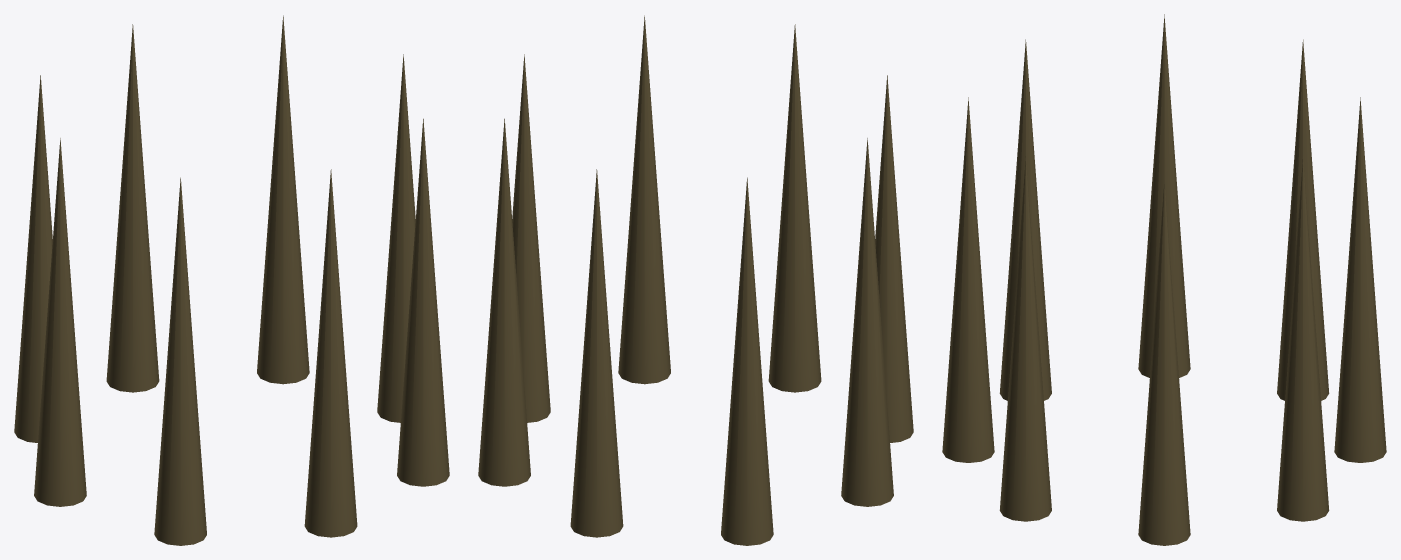
The model's file is root_cage.glb.
3 renders of one model, left to right at view 1: azimuth 30°, elevation 25°; view 2: azimuth 150°, elevation 25°; view 3: azimuth 270°, elevation 25°, orthographic.
Parts seen in each view (by area): view 1: root (×8); view 2: root (×8); view 3: root (×8).
Part boxes in pixels (bbox=[...]): root (×8): bbox=[14, 15, 449, 545]; root (×8): bbox=[478, 15, 913, 545]; root (×8): bbox=[942, 14, 1386, 545].
Size of the model in its own units: 1.36 by 1.2 by 1.36.
